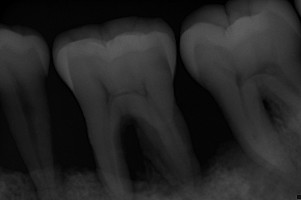Endo-Periodontal Lesion: (119, 116, 177, 194), (261, 97, 288, 133)
